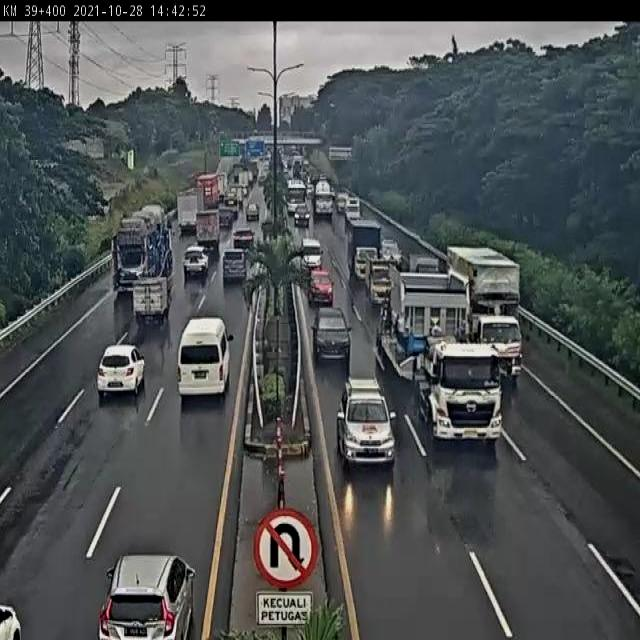Car: (96, 553, 196, 640), (336, 379, 397, 468), (96, 343, 146, 397), (311, 305, 352, 364), (308, 268, 334, 307), (183, 245, 210, 278), (300, 238, 323, 272), (232, 228, 255, 250), (294, 206, 310, 227), (246, 203, 259, 221)
Truck: (376, 266, 506, 443), (441, 247, 522, 383), (113, 204, 173, 294), (346, 219, 382, 274), (132, 276, 169, 322), (366, 258, 394, 308), (196, 172, 224, 214), (195, 209, 221, 251), (176, 190, 198, 238), (314, 179, 335, 218), (218, 206, 238, 231), (346, 196, 360, 219)
Van: (176, 316, 231, 395), (222, 248, 247, 284)
